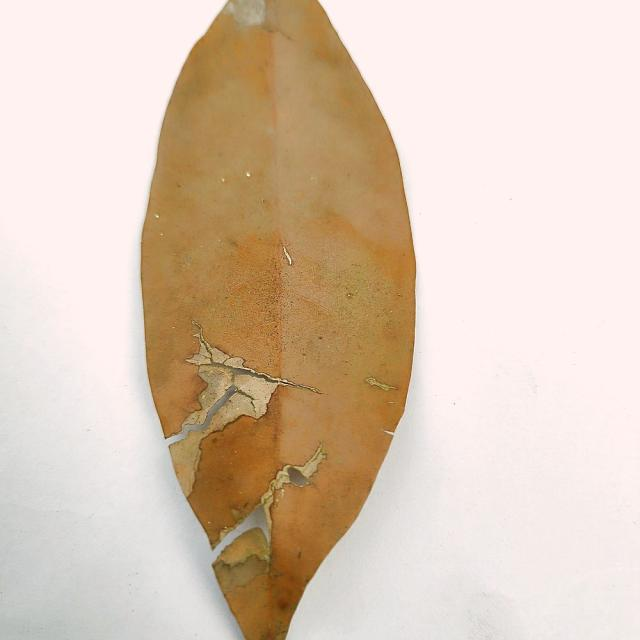Dry_Leaf-Lychee: (138, 0, 419, 639)
